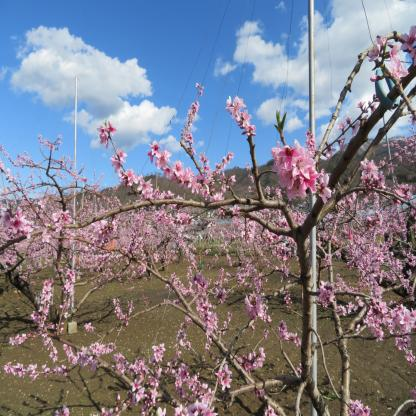Momo: (0, 26, 416, 416), (98, 200, 212, 265), (0, 201, 104, 268), (220, 188, 330, 247)
